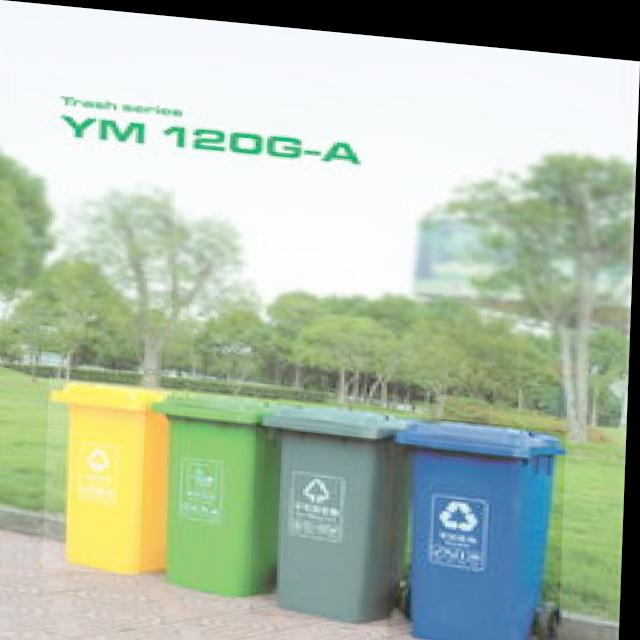garbage_bin: (391, 406, 569, 640), (254, 391, 412, 620), (143, 387, 283, 594), (47, 376, 169, 575)
